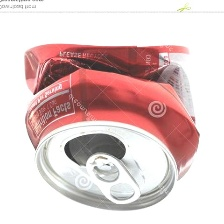can: (20, 24, 204, 215)
